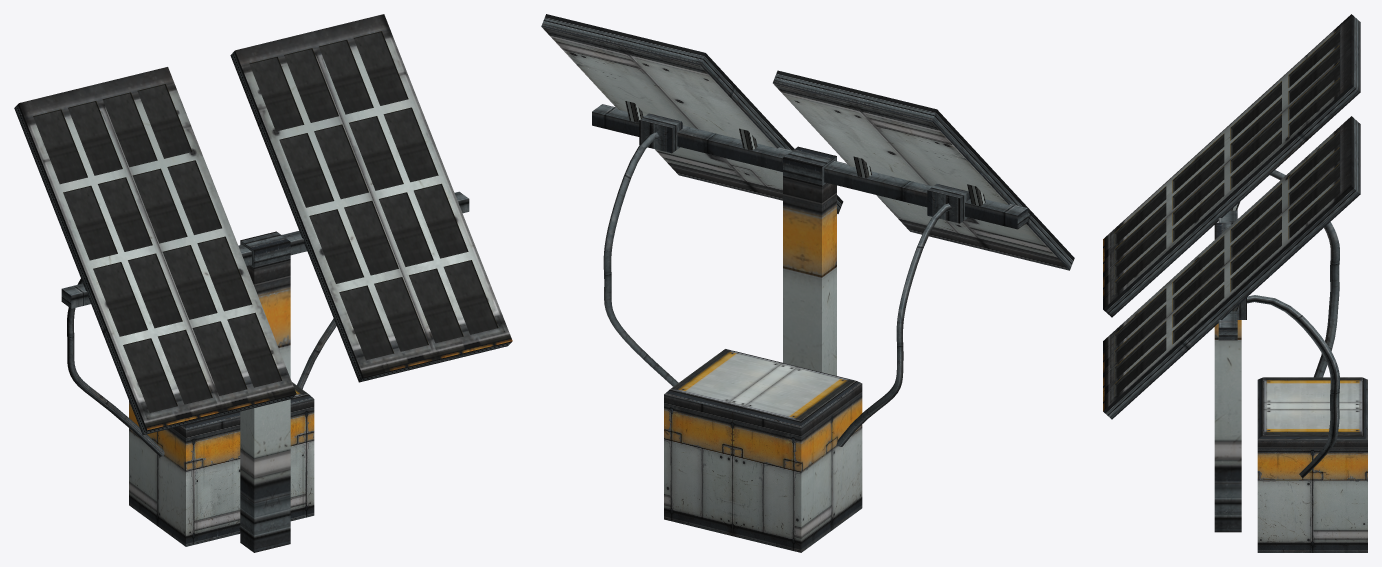
Rendered from energiasolar.fbx.
The picture shows the model from 3 angles, left to right: view 1: azimuth 30°, elevation 25°; view 2: azimuth 150°, elevation 25°; view 3: azimuth 270°, elevation 25°; orthographic projection. The views are drawn at different scales.
Parts seen in each view (by area): view 1: Cube, NurbsPath; view 2: Cube, NurbsPath; view 3: Cube, NurbsPath.
Part boxes in pixels (box(x1,y1,x2,y2)): Cube: box(14, 14, 512, 552); NurbsPath: box(67, 279, 336, 456); Cube: box(541, 14, 1074, 552); NurbsPath: box(603, 132, 951, 446); Cube: box(1103, 14, 1367, 552); NurbsPath: box(1247, 170, 1339, 478).
Size of the model in its own units: 4.93 by 5.18 by 2.94.
